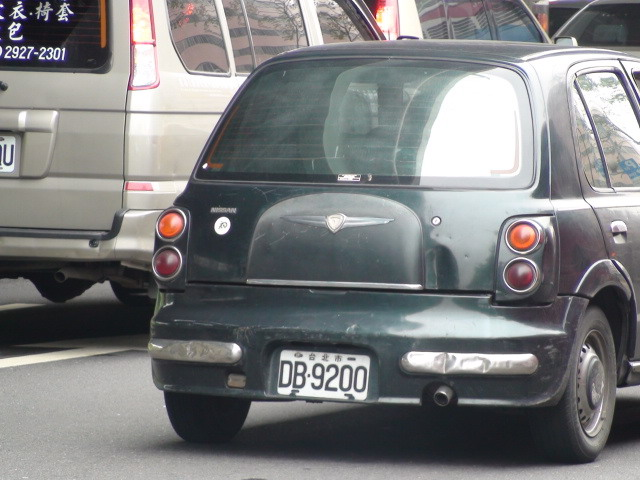plate: (274, 346, 376, 404)
